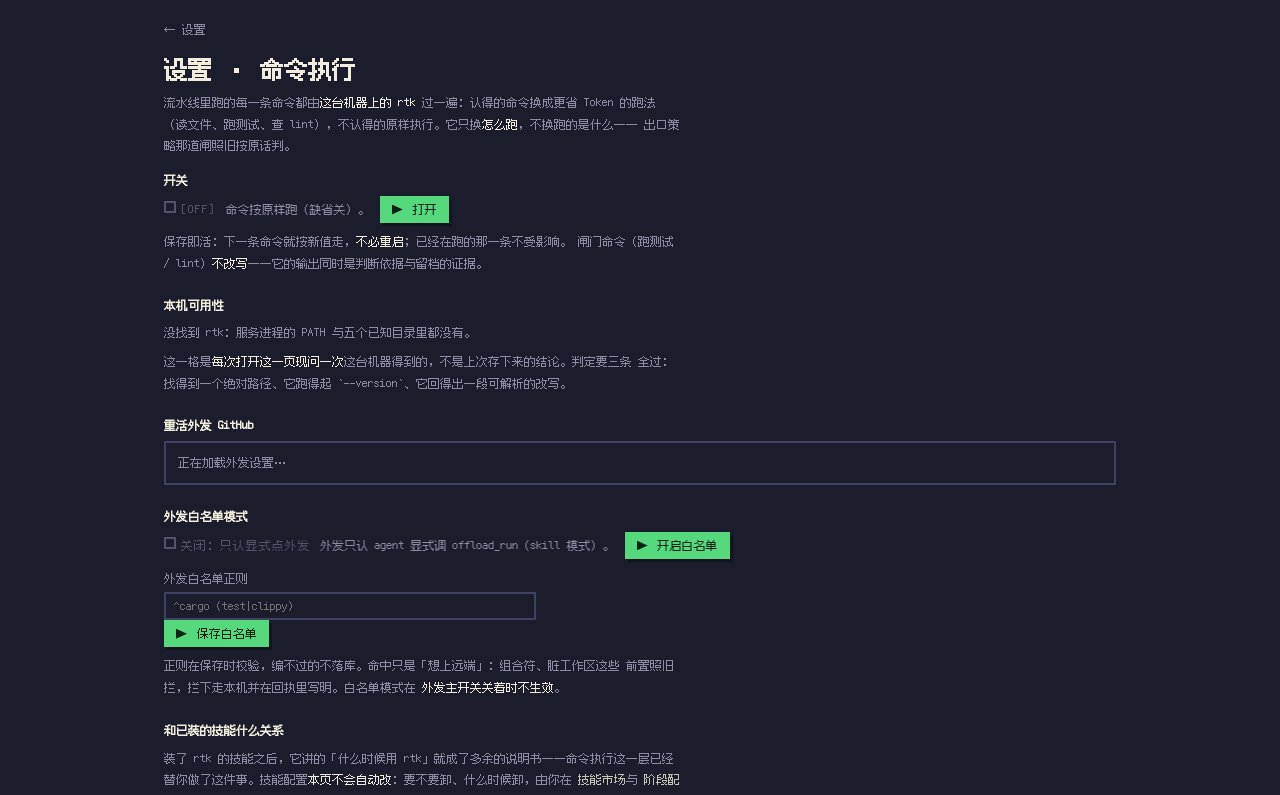
it: 命令执行页（决策 297 / 票 05） › 探测失败**仍然保存**：两件事一起说——已启用 + 当前找不到能用的
Expected: the heading "设置 · 命令执行" is shown, [164, 55, 356, 84]
Click the button "打开" at (414, 210), box [380, 196, 449, 223]
(page scrolled)
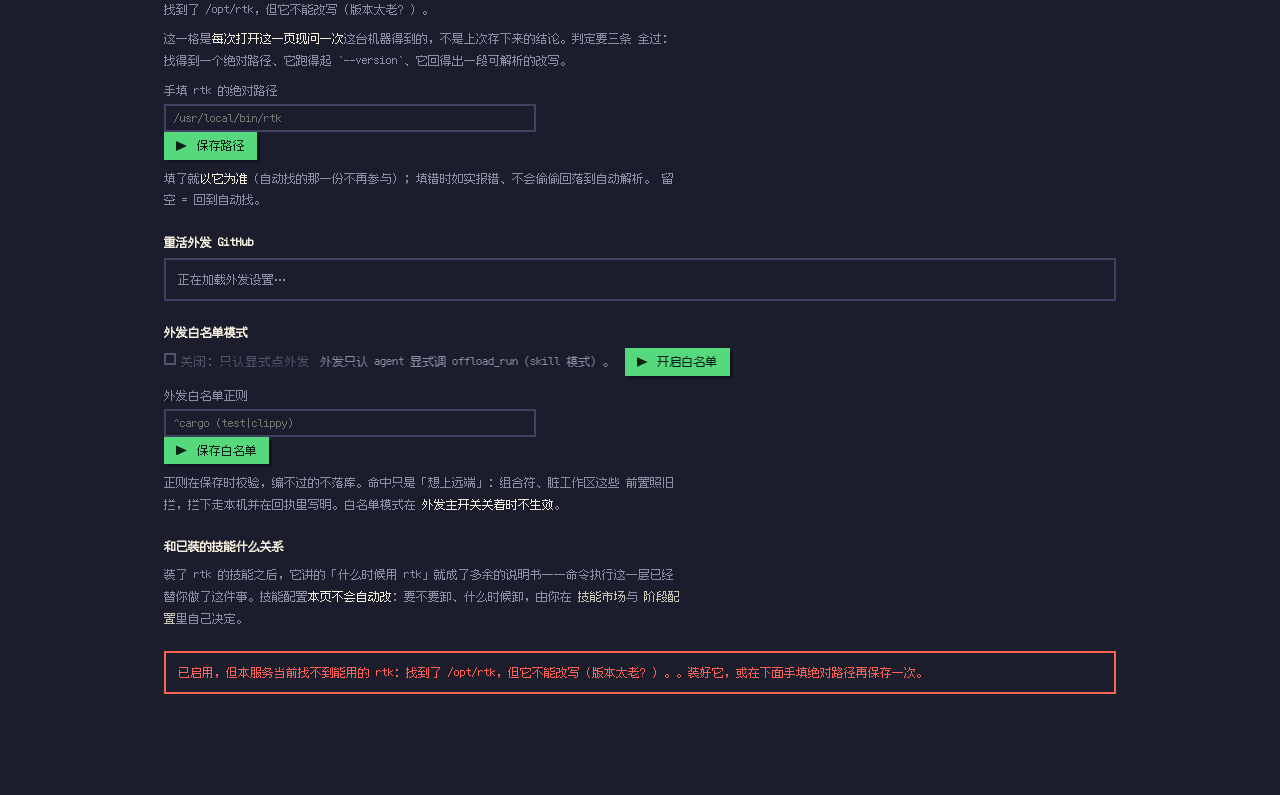
Expected: the message shows "已启用", [178, 666, 928, 678]
Expected: the message shows "找不到能用的 rtk", [178, 666, 928, 678]
